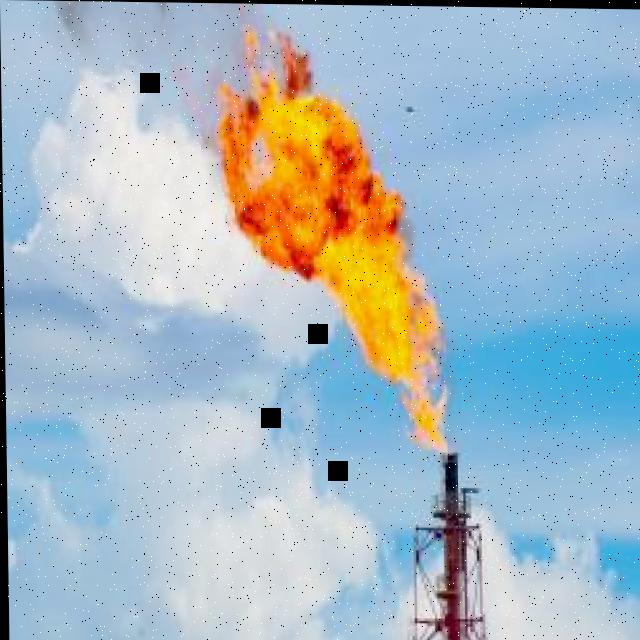fire: (220, 29, 454, 464)
smoke: (51, 2, 255, 223)
